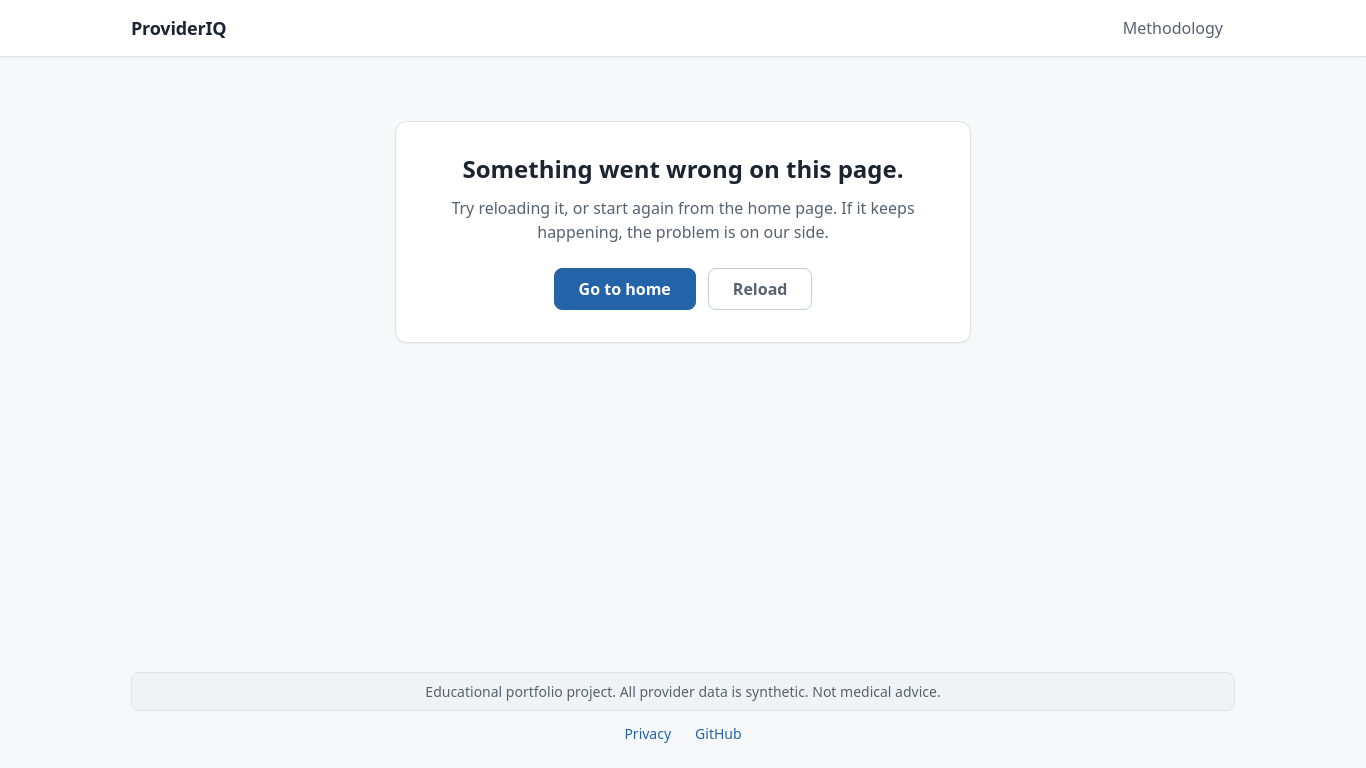
ErrorBoundary › resets when the route changes, e.g. from the header link
The image size is (1366, 768).
Expected: the message is shown, [395, 121, 971, 343]
Click the link "Methodology" at {"x": 1173, "y": 28}, box [1123, 17, 1223, 39]
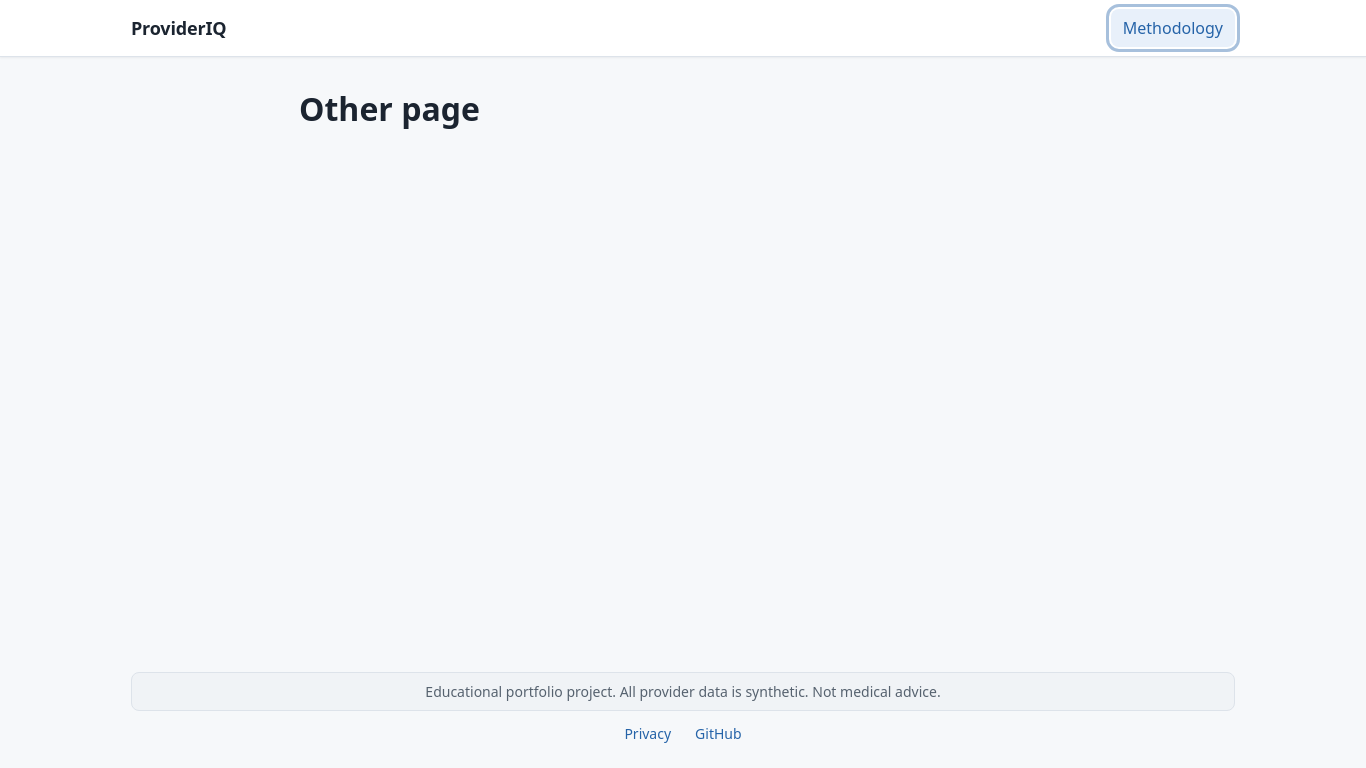
Expected: the heading "Other page" is shown, [299, 87, 480, 130]
Expected: the message is gone
Click the link "ProviderIQ" at {"x": 179, "y": 28}, box [131, 14, 226, 42]
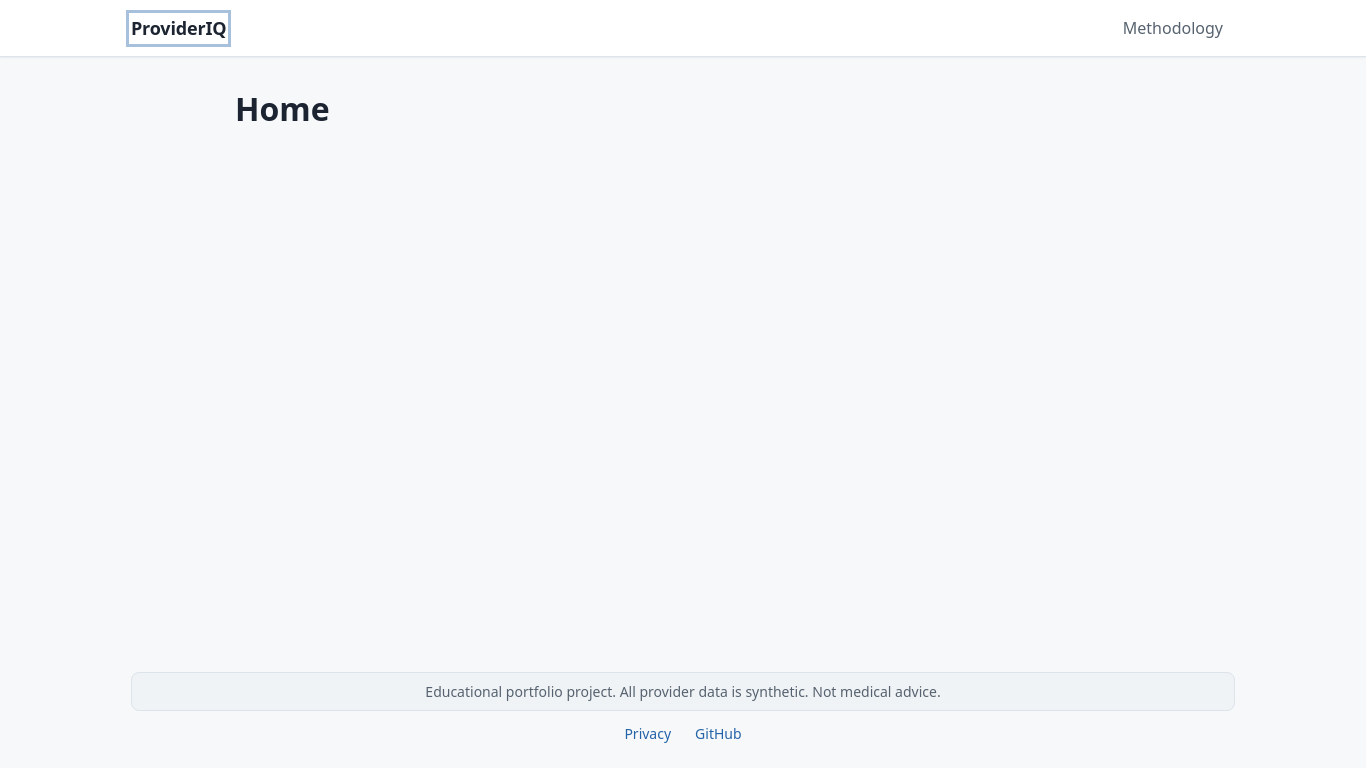
Expected: the heading "Home" is shown, [235, 87, 330, 130]
